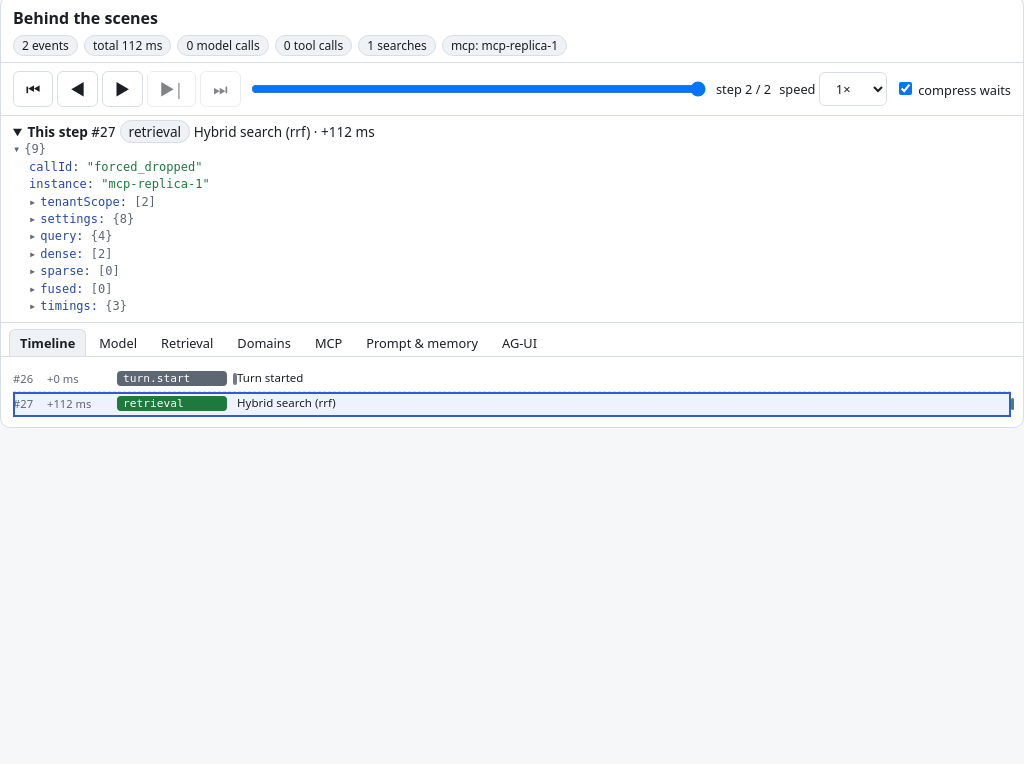
Test: MonitorPanel › retrieval tab shows the near misses a floor kept out of the answer
The width and height of the screenshot is (1024, 764).
What coordinates should you click on to do the following:
click the tab "Retrieval"
I would click on:
 (187, 342)
Its box is x1=150 y1=329 x2=224 y2=356.
(page scrolled)
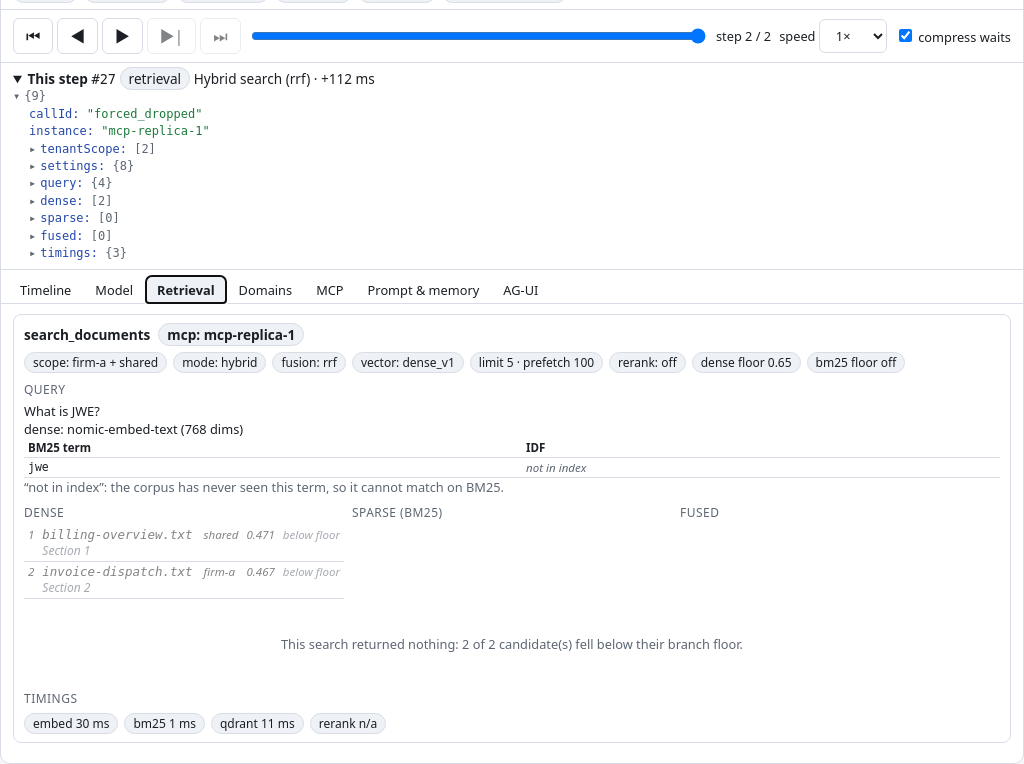
expect the table named "Dense candidates" shows "billing-overview.txt": met, box x1=42 y1=527 x2=192 y2=542
expect the table named "Dense candidates" shows "0.471": met, box x1=246 y1=527 x2=275 y2=542
expect the text "below floor" is shown 2 times: met, box x1=283 y1=527 x2=340 y2=542; x1=283 y1=564 x2=340 y2=579
